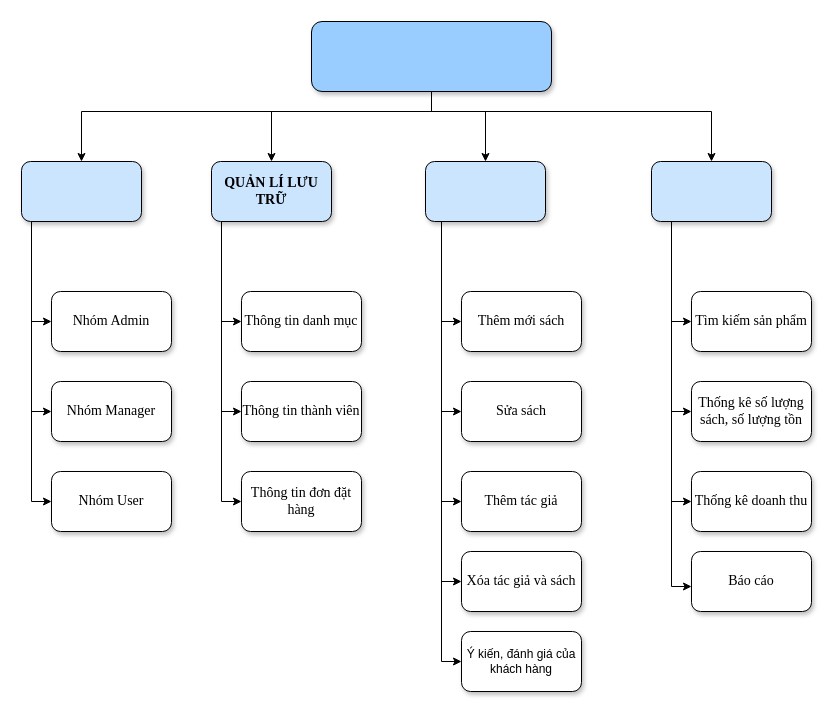
The diagram is 835 pixels wide and 716 high, and some of its shapes have lost their labels. The centre of each missing label's shape, as x and y in pixels:
QUẢN LÍ SÁCH: (486,192)
QUẢN TRỊ NGƯỜI DÙNG: (82,192)
TÌM KIẾM VÀ THỐNG KÊ: (712,192)
WEBSITE BÁN SÁCH ONLINE: (432,57)
